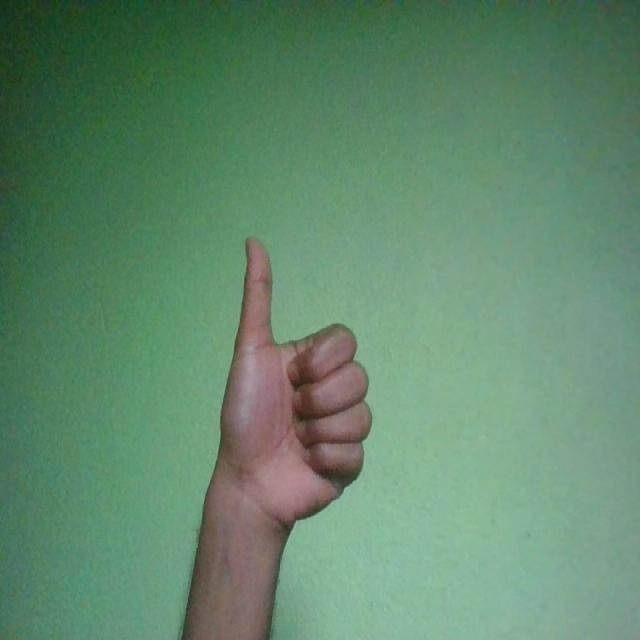Good Job: (220, 234, 372, 534)
